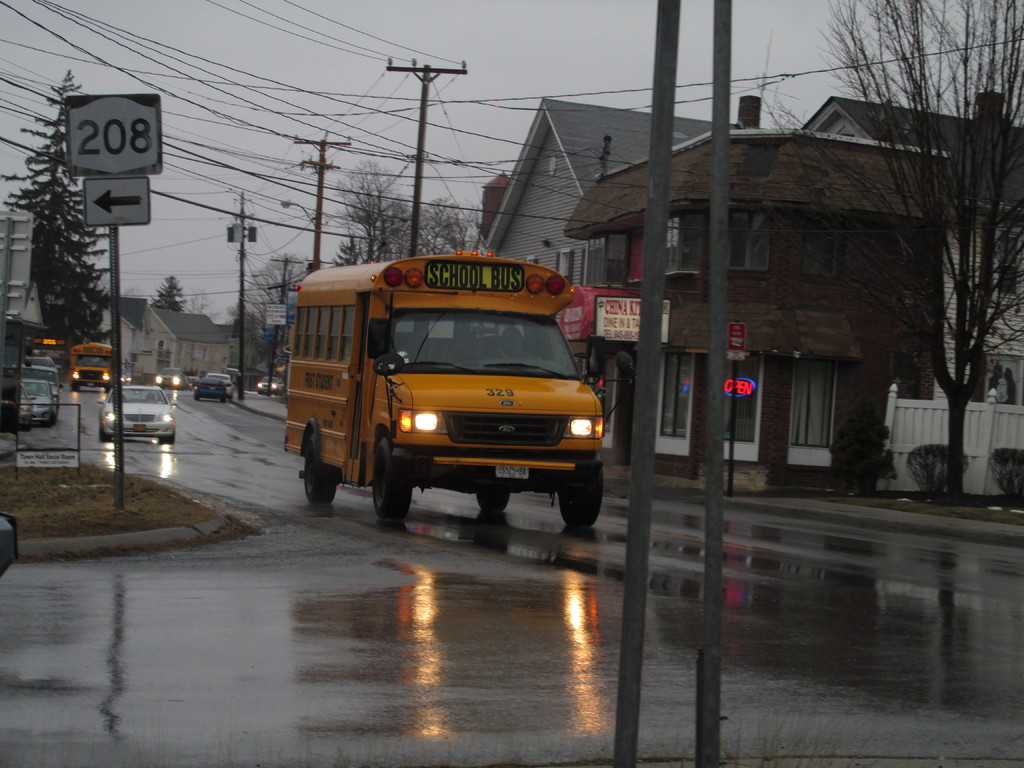Bus: (281, 251, 636, 531), (72, 341, 116, 394)
